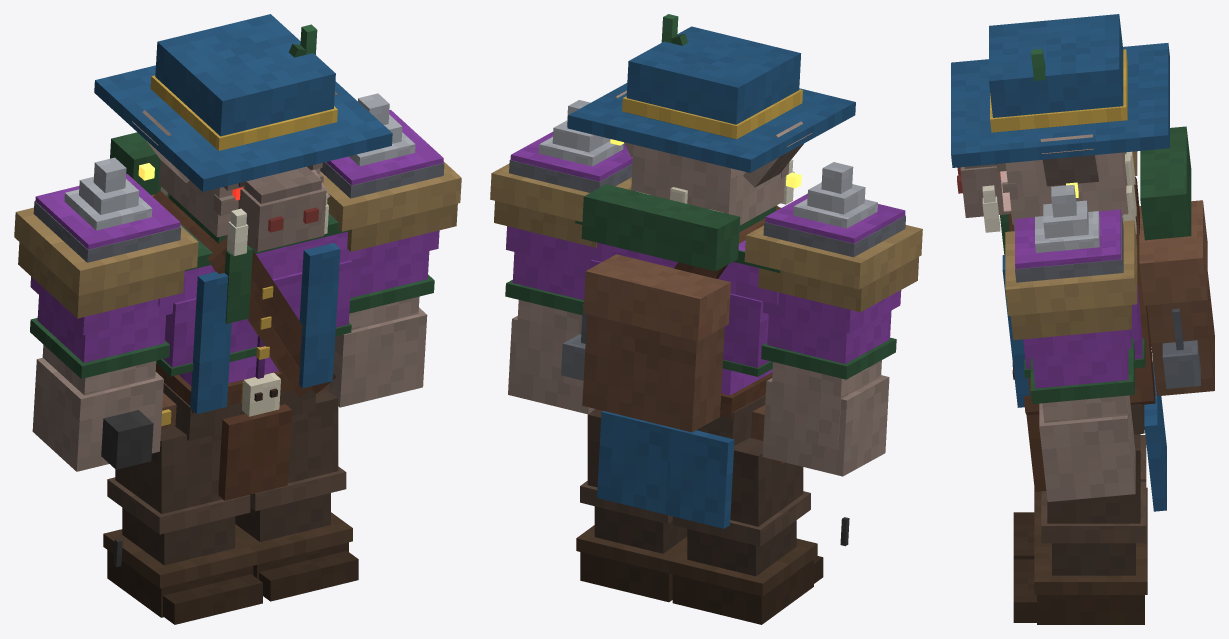
Rendered from orc_marchand.glb.
3 views of the same model, side by side, from view 1: azimuth 30°, elevation 25°; view 2: azimuth 150°, elevation 25°; view 3: azimuth 270°, elevation 25° (orthographic). The views are drawn at different scales.
Parts seen in each view (by area): view 1: Head, Torso, ArmR, ArmL, LegR, LegL, HandR; view 2: Torso, ArmR, Head, ArmL, LegR, LegL; view 3: Head, ArmL, Torso, LegL, LegR.
Boxes of the visible parts, x1,y1,x2,y2 form: Head: (94,14,392,256); Torso: (110,132,366,500); ArmR: (14,157,198,471); ArmL: (320,93,461,407); LegR: (103,426,262,624); LegL: (235,390,358,601); HandR: (101,410,153,567); Torso: (561,184,784,528); ArmR: (744,162,922,476); Head: (567,14,855,232); ArmL: (490,100,632,414); LegR: (669,437,823,624); LegL: (576,409,687,602); Head: (951,14,1169,232); ArmL: (1005,184,1137,501); Torso: (1000,126,1214,511); LegL: (1013,434,1147,624); LegR: (1013,435,1147,559).
Size of the model in its own units: 1.44 by 1.99 by 0.8605.
43 materials, 43 textured.
